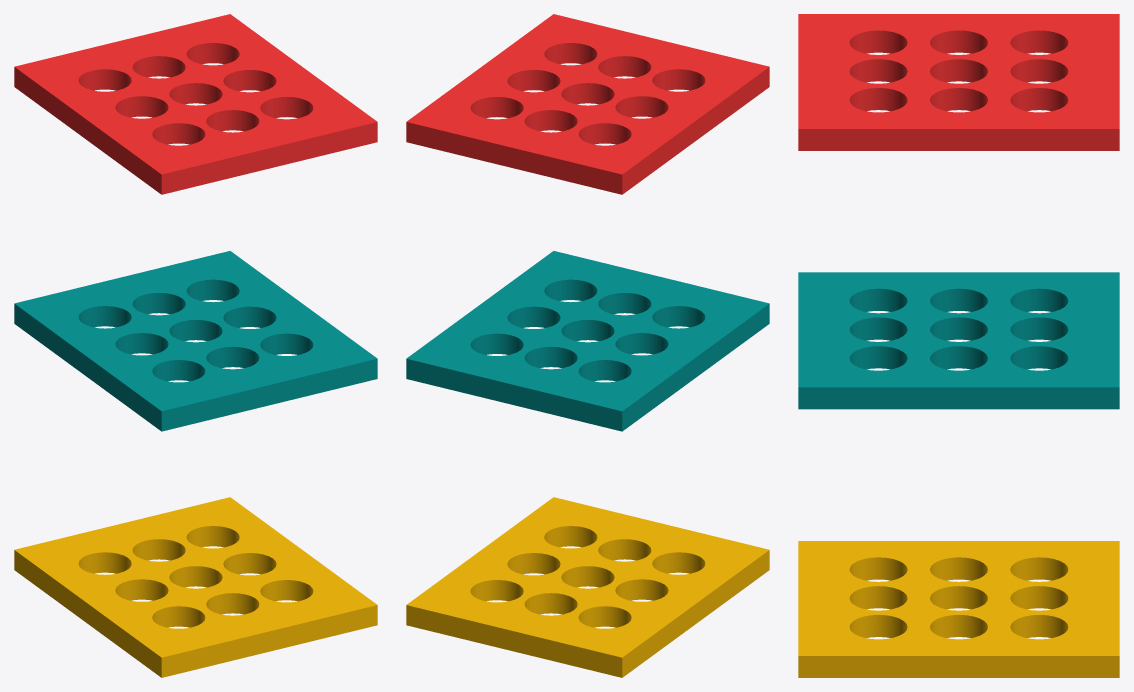
3 views of the same model, side by side, from view 1: azimuth 30°, elevation 25°; view 2: azimuth 150°, elevation 25°; view 3: azimuth 270°, elevation 25° (orthographic). The views are drawn at different scales.
Parts seen in each view (by area): view 1: group_2 (×10), group_0 (×10), group_1 (×10); view 2: group_2 (×10), group_0 (×10), group_1 (×10); view 3: group_1 (×10), group_0 (×10), group_2 (×10).
Boxes of the visible parts, x1,y1,x2,y2 form: group_2 (×10): [14, 497, 377, 677]; group_0 (×10): [14, 14, 377, 194]; group_1 (×10): [14, 251, 377, 431]; group_2 (×10): [406, 497, 769, 677]; group_0 (×10): [406, 14, 769, 194]; group_1 (×10): [406, 251, 769, 431]; group_1 (×10): [798, 272, 1119, 409]; group_0 (×10): [798, 14, 1119, 150]; group_2 (×10): [798, 541, 1119, 677].
Bounding box in the file's own units: 92.13 × 109 × 205.
